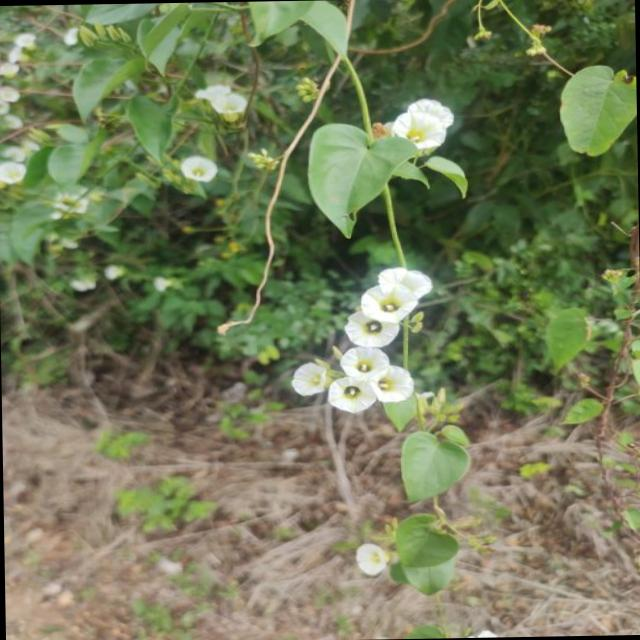ipomoea: (284, 263, 438, 418), (381, 95, 458, 157), (174, 152, 222, 186)
